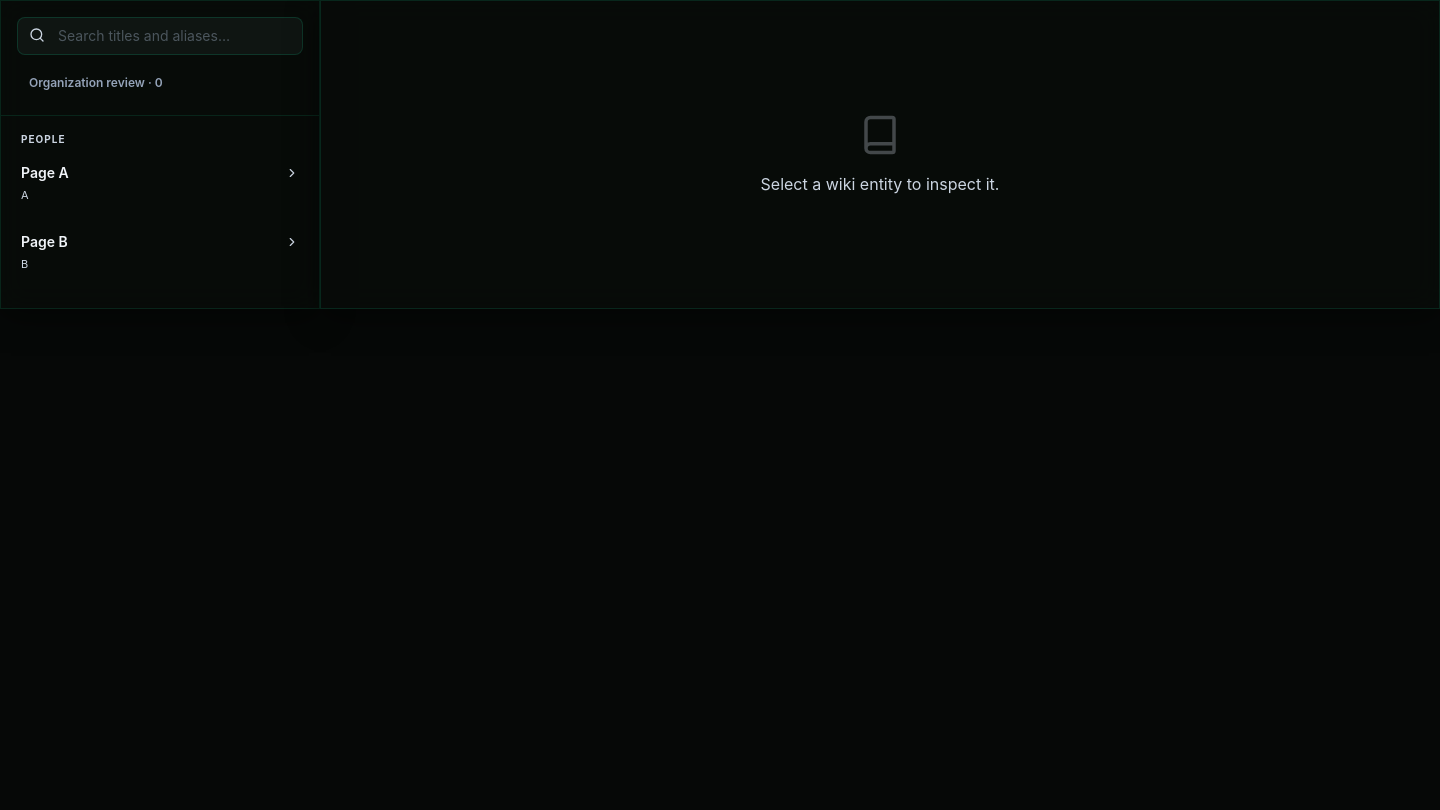
Scenario: rejects an old mutation refresh after navigating away and back to its page
This screenshot has width=1440, height=810.
Click the button "Page A A" at (45, 172), box [9,151,311,216]
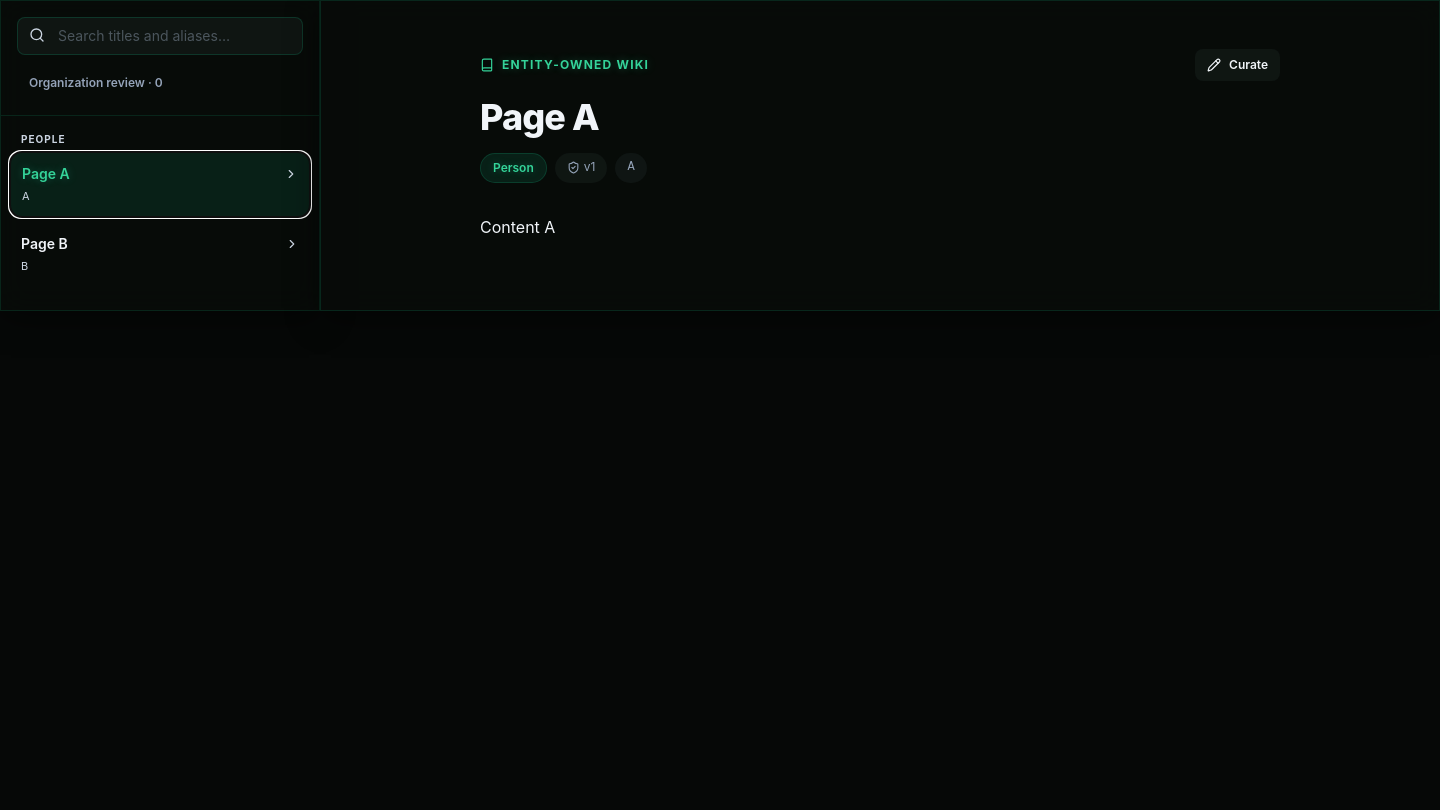
Result: the text "Content A" is shown at [480,217,555,237]
Click the button "Curate" at (1238, 65), box [1195,49,1280,81]
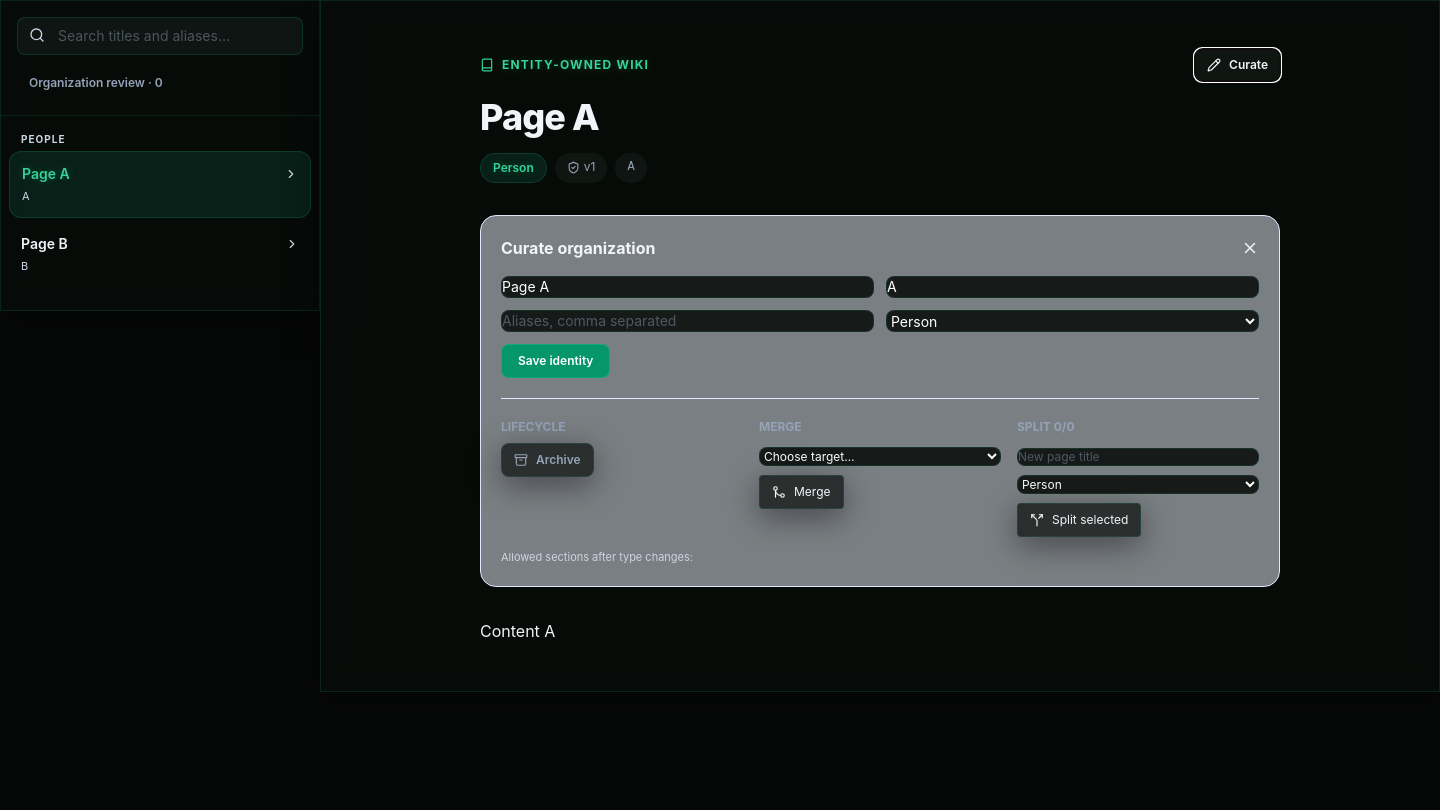
Replace the text in the 2nd field with placeholder "Slug" with "renamed" at (1072, 287), box [886,276,1259,298]
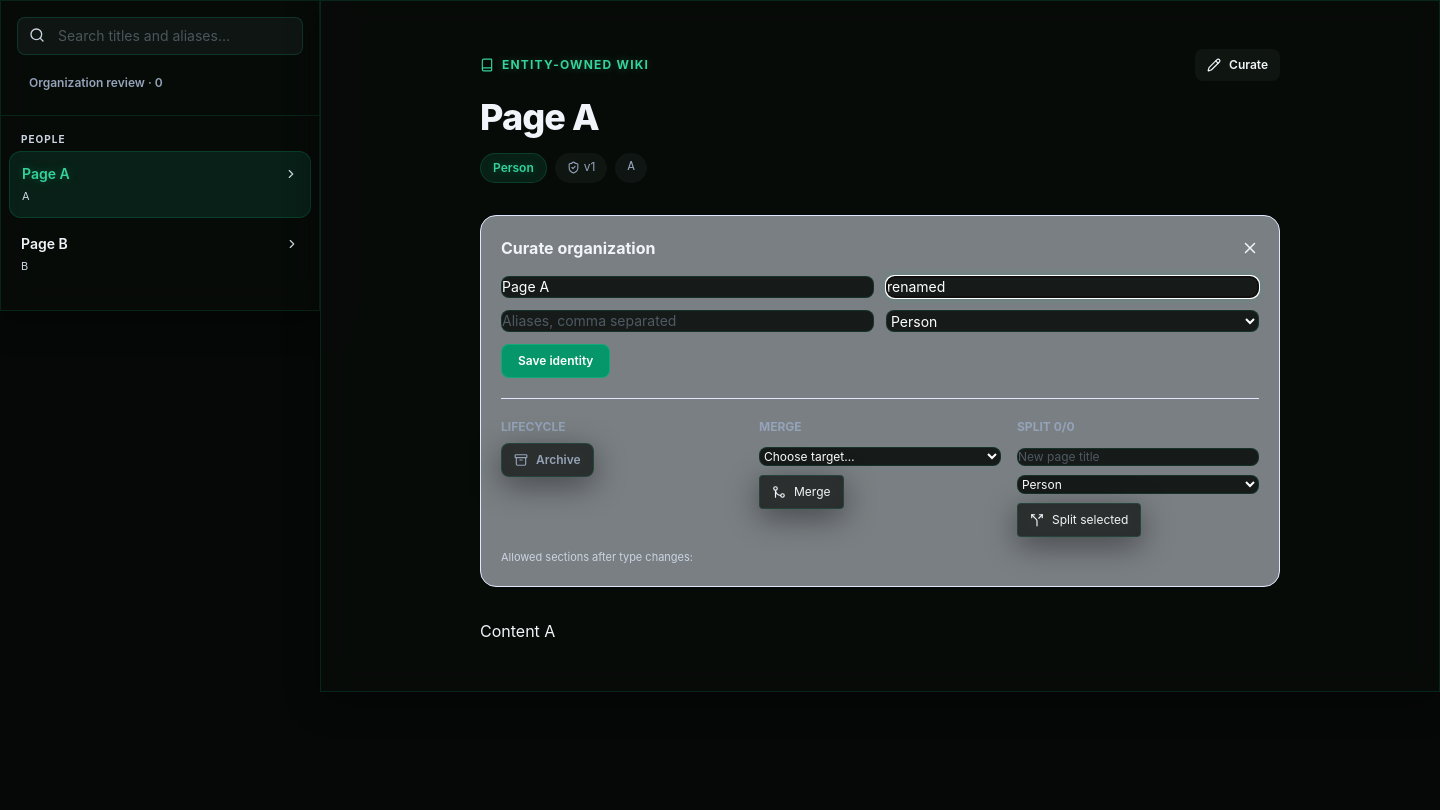
Click the button "Save identity" at (556, 361), box [501,344,610,378]
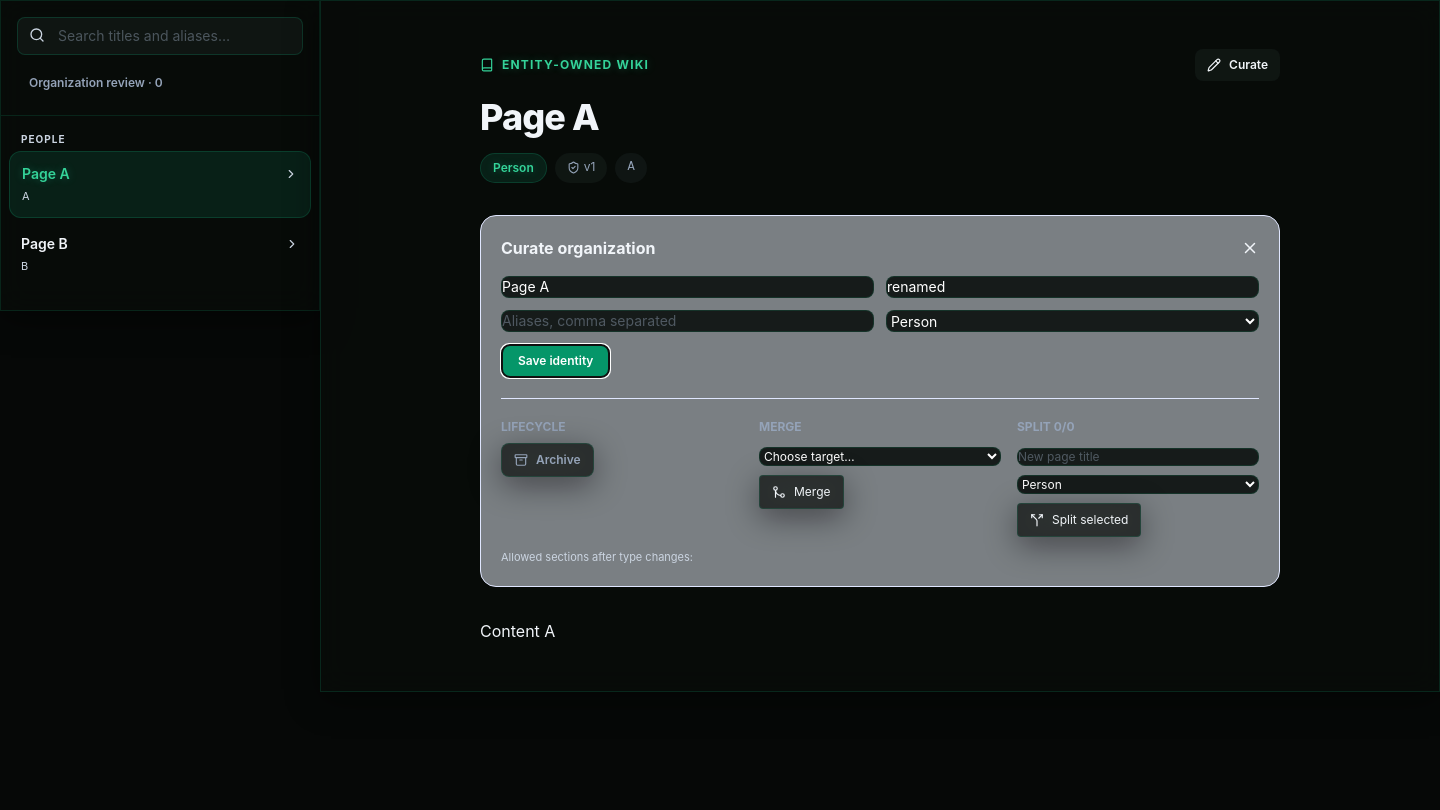
Click the button "Page B B" at (44, 243), box [9,222,311,286]
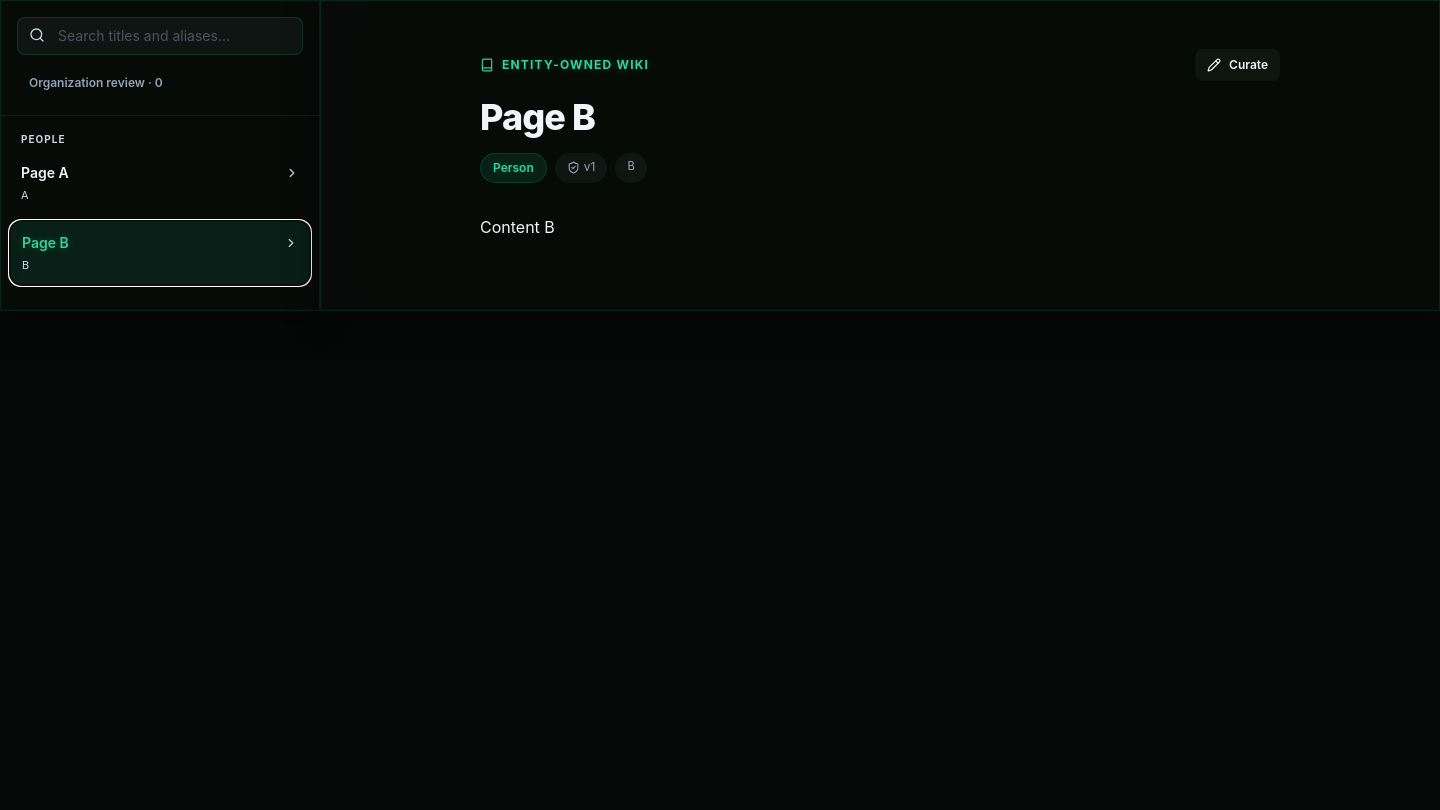
Result: the text "Content B" is shown at [480,217,555,237]
Click the button "Page A A" at (45, 172), box [9,151,311,216]
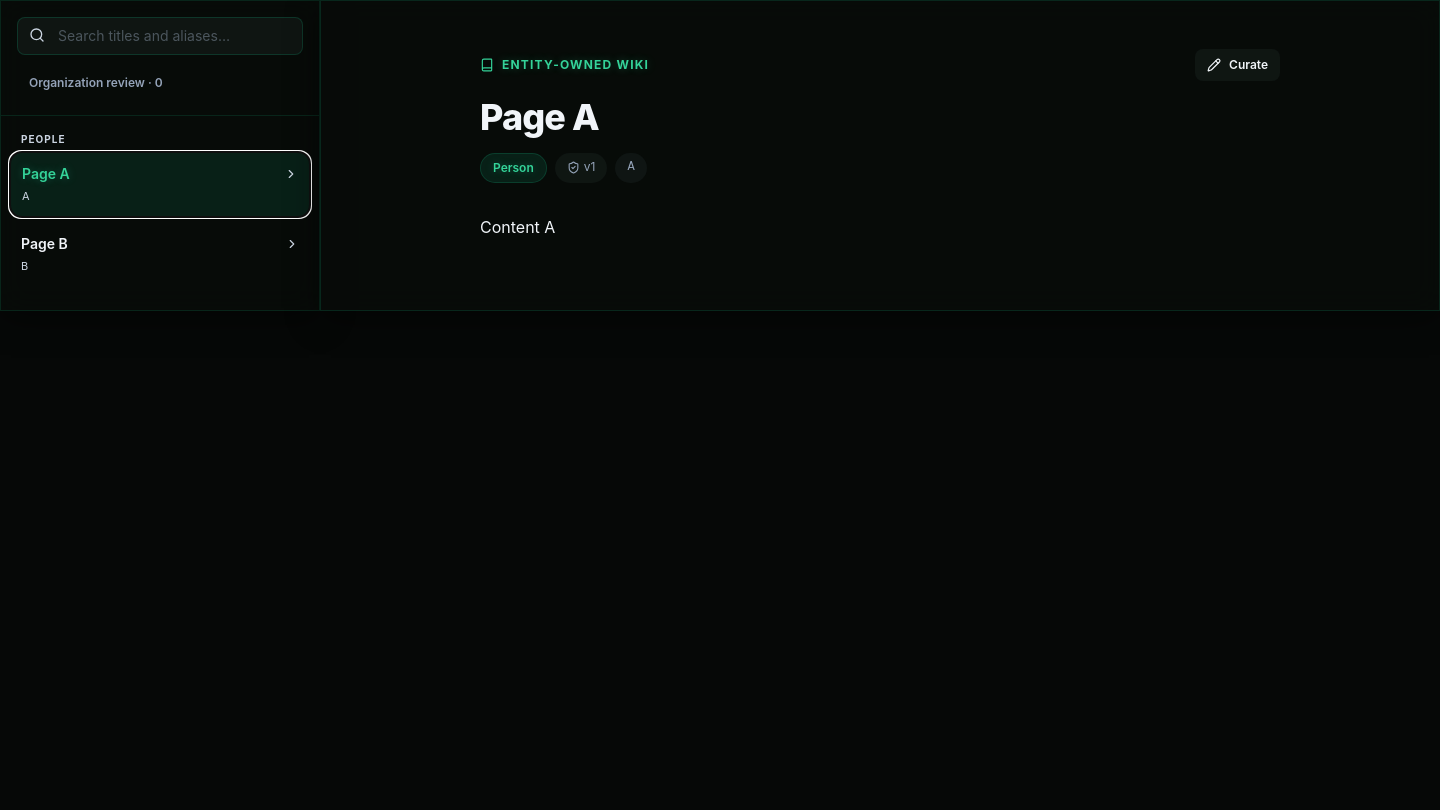
Result: the text "Content A" is shown at [480,217,555,237]
Result: the heading "Page A" is shown at [480,95,599,139]
